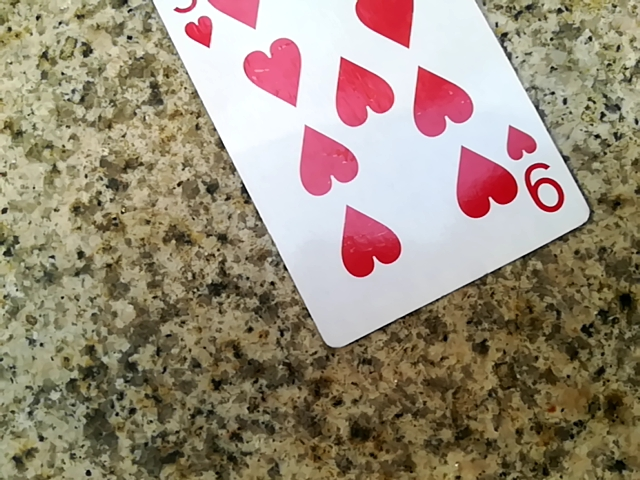hx 9: (137, 2, 569, 347)
